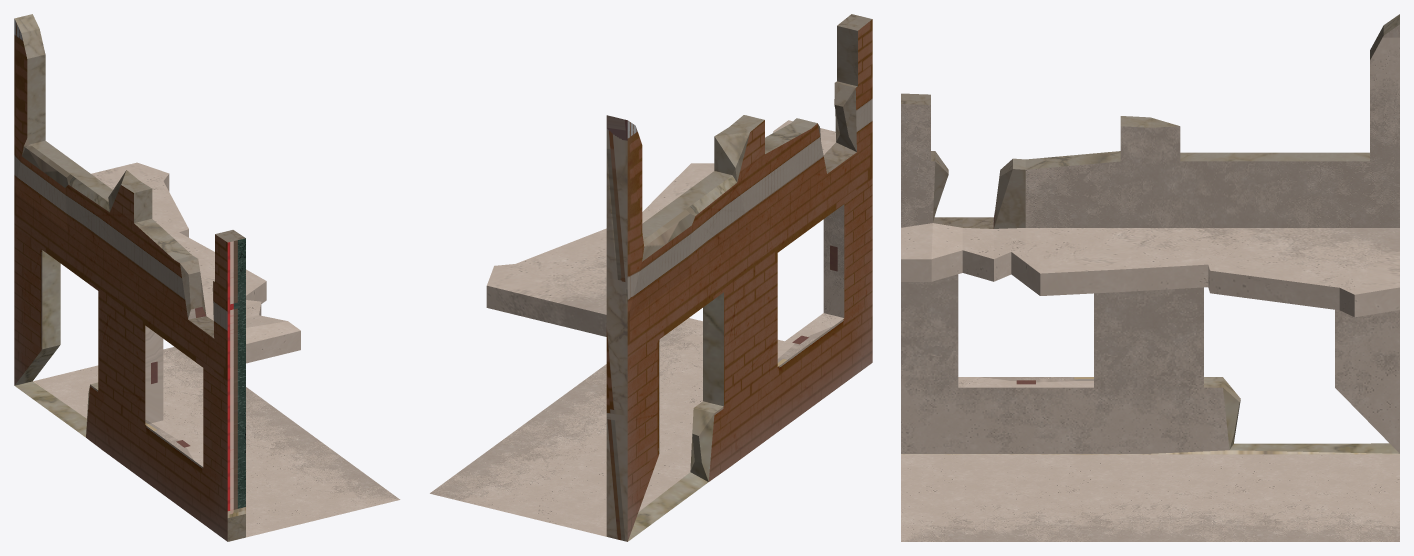
File: Wall2W.fbx
3 views of the same model, side by side, from view 1: azimuth 30°, elevation 25°; view 2: azimuth 150°, elevation 25°; view 3: azimuth 270°, elevation 25° (orthographic). The views are drawn at different scales.
Visible parts, largest first — view 1: Cube.001; view 2: Cube.001; view 3: Cube.001.
Boxes of the visible parts, x1,y1,x2,y2 form: Cube.001: (14,14,400,541); Cube.001: (430,14,872,541); Cube.001: (901,14,1399,541).
Bounding box in the file's own units: 190 × 380 × 400.
